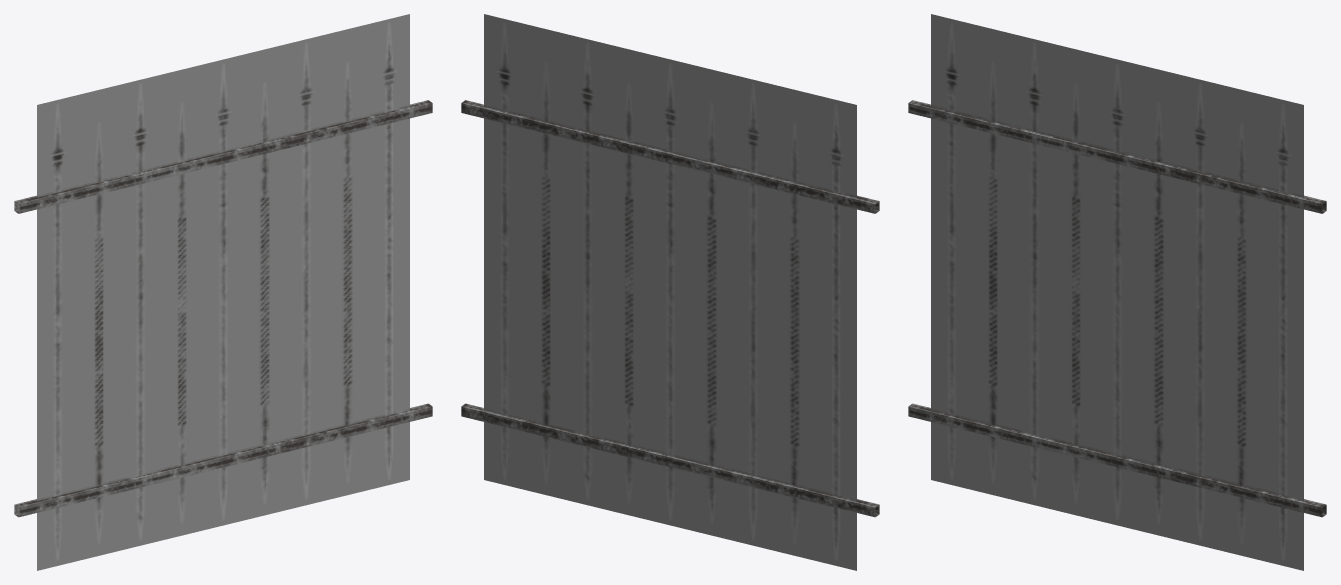
The model's file is Metal Fence 3 half LOD.fbx.
3 views of the same model, side by side, from view 1: azimuth 30°, elevation 25°; view 2: azimuth 150°, elevation 25°; view 3: azimuth 330°, elevation 25° (orthographic).
Parts seen in each view (by area): view 1: Metal Fence 3 half LOD; view 2: Metal Fence 3 half LOD; view 3: Metal Fence 3 half LOD.
Boxes of the visible parts, box(x1,y1,x2,y2) form: Metal Fence 3 half LOD: box(14, 14, 432, 570); Metal Fence 3 half LOD: box(461, 14, 879, 570); Metal Fence 3 half LOD: box(908, 14, 1326, 570).
Size of the model in its own units: 200 by 215 by 3.57.
Materials: 1 (1 with a texture image).
